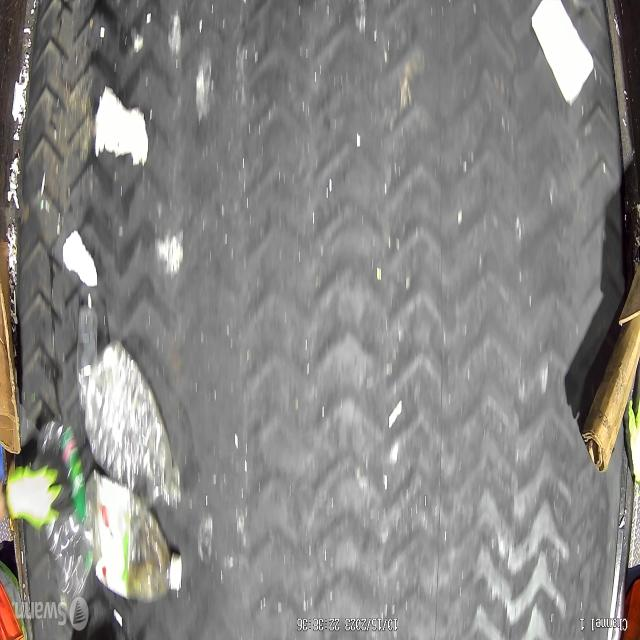plastic_bottle: (78, 341, 184, 509), (86, 474, 181, 603)
